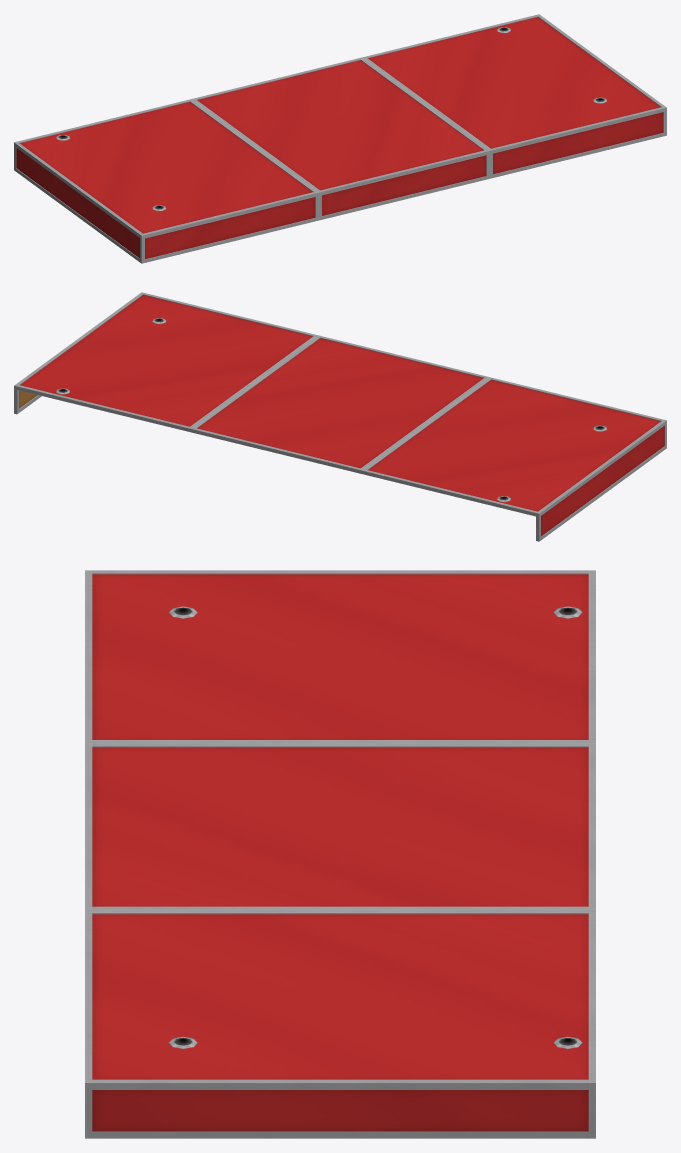
The model's file is jsf_4P_s02_c06_t01_DX.fbx.
3 renders of one model, top to bottom at view 1: azimuth 30°, elevation 25°; view 2: azimuth 150°, elevation 25°; view 3: azimuth 270°, elevation 25°, orthographic. The views are drawn at different scales.
Parts seen in each view (by area): view 1: jsf_4P_s02_c06_t01_DX; view 2: jsf_4P_s02_c06_t01_DX; view 3: jsf_4P_s02_c06_t01_DX.
Part boxes in pixels (x1=…): jsf_4P_s02_c06_t01_DX: x1=14, y1=14, x2=666, y2=263; jsf_4P_s02_c06_t01_DX: x1=14, y1=292, x2=666, y2=541; jsf_4P_s02_c06_t01_DX: x1=85, y1=570, x2=595, y2=1138.
Size of the model in its own units: 246 by 12.99 by 104.
